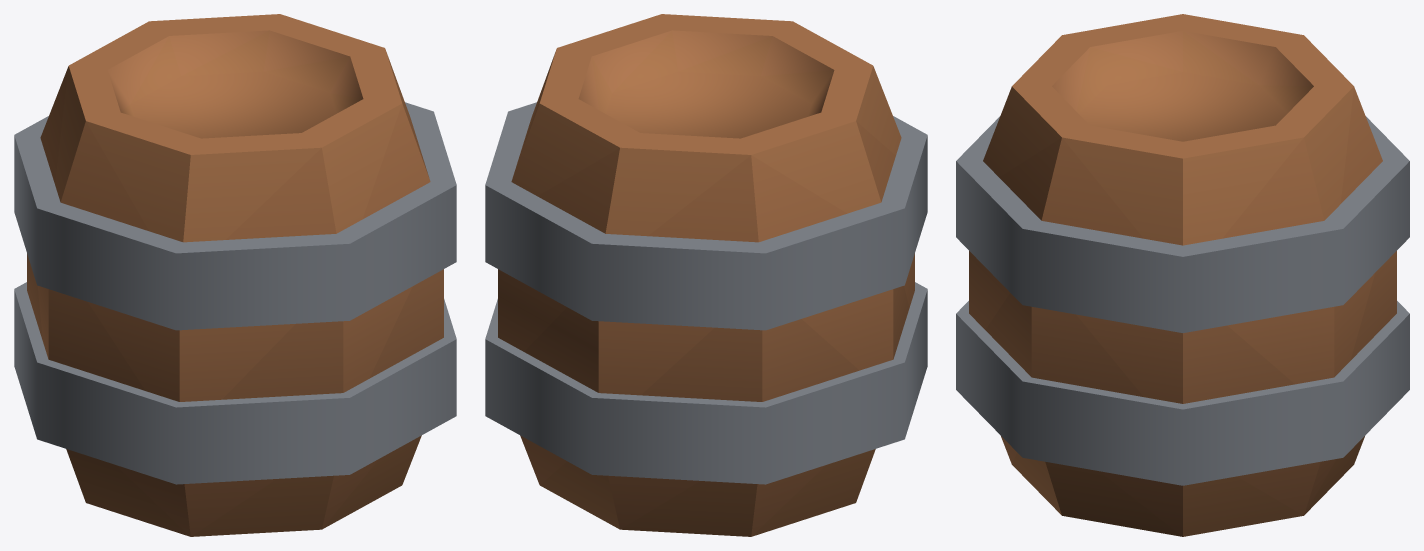
File: kenney_pirate_barrel.glb
3 renders of one model, left to right at view 1: azimuth 30°, elevation 25°; view 2: azimuth 150°, elevation 25°; view 3: azimuth 270°, elevation 25°, orthographic.
Visible parts, largest first — view 1: wood, metal; view 2: wood, metal; view 3: wood, metal.
Part boxes in pixels (bbox=[...]): wood: bbox=[27, 14, 443, 536]; metal: bbox=[14, 102, 456, 484]; wood: bbox=[498, 14, 914, 536]; metal: bbox=[485, 102, 927, 484]; wood: bbox=[969, 14, 1396, 536]; metal: bbox=[956, 116, 1409, 485].
Size of the model in its own units: 1.34 by 1.23 by 1.34.
